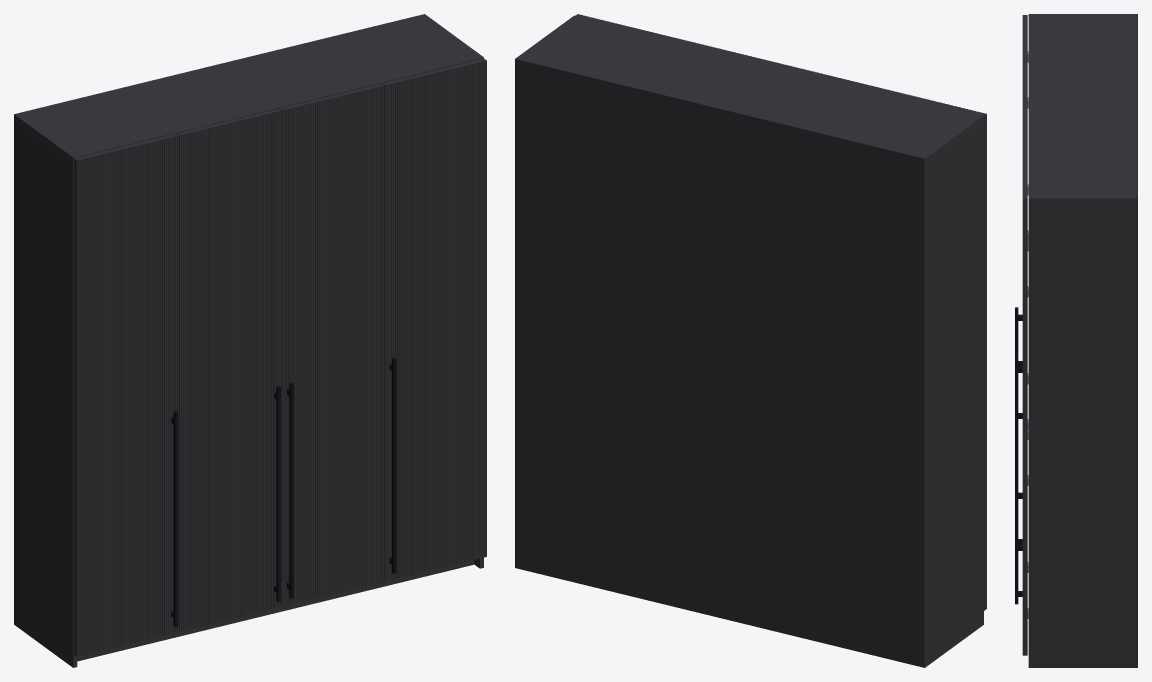
The model's file is wardrobe-15-katania-four-door.glb.
3 views of the same model, side by side, from view 1: azimuth 30°, elevation 25°; view 2: azimuth 150°, elevation 25°; view 3: azimuth 270°, elevation 25° (orthographic). The views are drawn at different scales.
Visible parts, largest first — view 1: Panel_Side_Left_Tile_ccc, Panel_Top_Tile_ccc, Plinth_Front_Tile_ccc, Door_01_Panel_Left_Edge, Handle_01_Bar, Handle_04_Bar, Handle_02_Bar, Handle_03_Bar, Panel_Side_Left_Tile_ccp, Door_01_Panel_Land_01_Surface, Door_01_Panel_Land_03_Surface, Door_01_Panel_Land_05_Surface (+267 smaller); view 2: Panel_Back_Tile_ccc, Panel_Side_Left_Tile_ccc, Panel_Top_Tile_ccc, Door_01_Panel_Left_Edge, Panel_Back_Tile_mcc; view 3: Panel_Side_Right_Tile_ccc, Panel_Top_Tile_ccc, Door_04_Panel_Right_Edge, Panel_Back_Tile_pcc, Handle_04_Bar, Panel_Top_Tile_pcc, Panel_Side_Right_Tile_ccp, Panel_Back_Tile_cpc.
Boxes of the visible parts, left/top/right/bottom form: Panel_Side_Left_Tile_ccc: left=14, top=119, right=72, bottom=667; Panel_Top_Tile_ccc: left=15, top=14, right=483, bottom=157; Plinth_Front_Tile_ccc: left=77, top=560, right=474, bottom=661; Door_01_Panel_Left_Edge: left=74, top=159, right=76, bottom=656; Handle_01_Bar: left=173, top=410, right=178, bottom=627; Handle_04_Bar: left=392, top=357, right=396, bottom=573; Handle_02_Bar: left=276, top=385, right=280, bottom=602; Handle_03_Bar: left=289, top=382, right=293, bottom=598; Panel_Side_Left_Tile_ccp: left=73, top=162, right=77, bottom=667; Door_01_Panel_Land_01_Surface: left=77, top=160, right=78, bottom=656; Door_01_Panel_Land_03_Surface: left=81, top=159, right=82, bottom=655; Door_01_Panel_Land_05_Surface: left=85, top=158, right=86, bottom=654; Panel_Back_Tile_ccc: left=515, top=59, right=924, bottom=667; Panel_Side_Left_Tile_ccc: left=925, top=120, right=983, bottom=666; Panel_Top_Tile_ccc: left=516, top=15, right=983, bottom=157; Door_01_Panel_Left_Edge: left=984, top=114, right=986, bottom=610; Panel_Back_Tile_mcc: left=924, top=159, right=925, bottom=667; Panel_Side_Right_Tile_ccc: left=1029, top=202, right=1136, bottom=667; Panel_Top_Tile_ccc: left=1029, top=14, right=1136, bottom=198; Door_04_Panel_Right_Edge: left=1022, top=199, right=1027, bottom=655; Panel_Back_Tile_pcc: left=1136, top=198, right=1137, bottom=667; Handle_04_Bar: left=1015, top=405, right=1018, bottom=604; Panel_Top_Tile_pcc: left=1029, top=198, right=1136, bottom=202; Panel_Side_Right_Tile_ccp: left=1028, top=202, right=1028, bottom=667; Panel_Back_Tile_cpc: left=1136, top=14, right=1137, bottom=198.
Size of the model in its own units: 1.6 by 1.9 by 0.45.
Materials: 366 (364 with a texture image).
